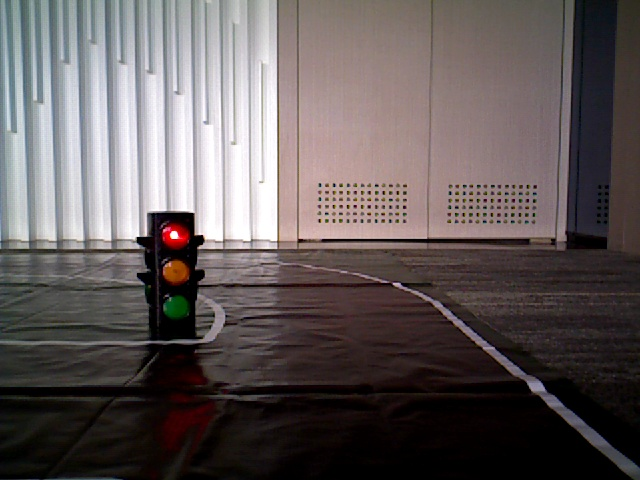red: (151, 216, 196, 325)
